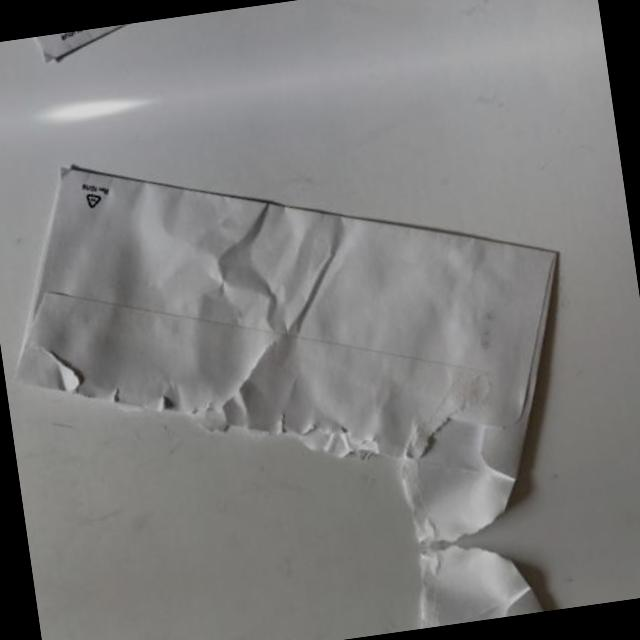paper: (0, 104, 591, 595), (48, 528, 603, 640), (0, 0, 517, 67)
